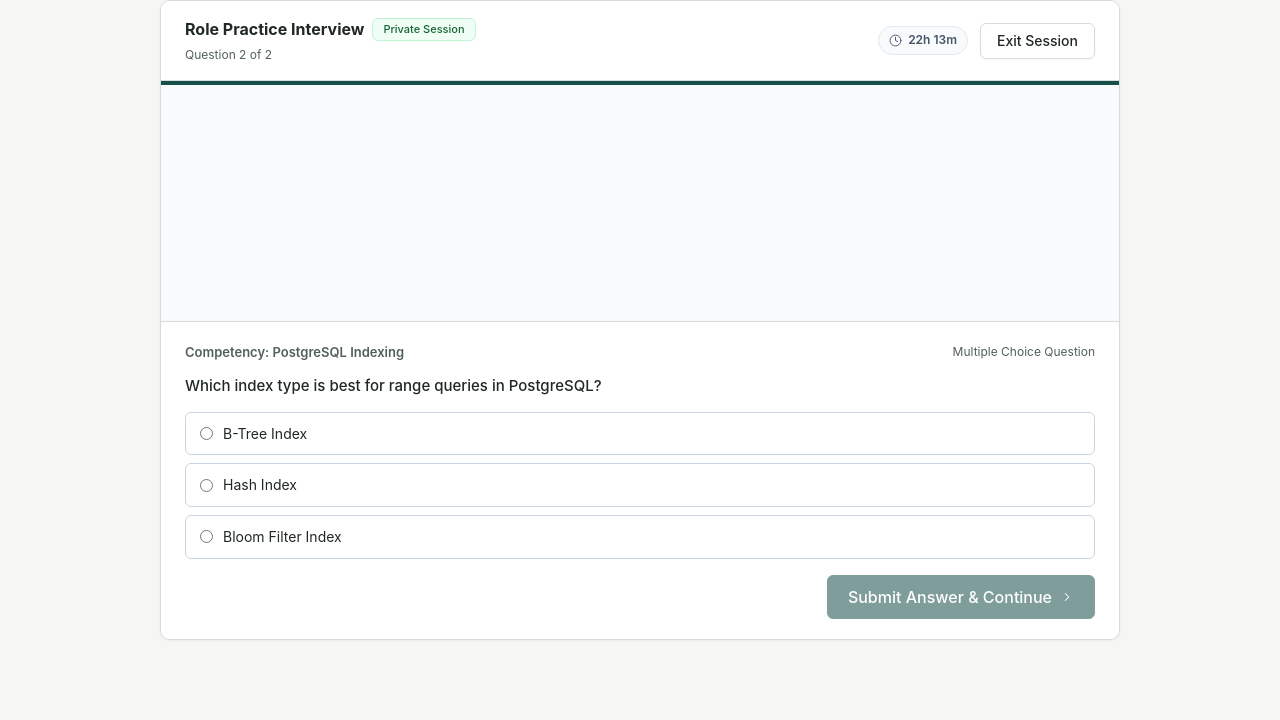
Test: Candidate Practice Engine & Room › renders MCQ question and allows option selection and submission
Expected: the text "Which index type is best for range queries in PostgreSQL?" is shown, [185,376,602,395]
Expected: the text "Hash Index" is shown, [223,474,297,496]
Note: Select Option A (B-Tree Index)
Click the text "B-Tree Index" at point(265, 433), box [223,422,307,444]
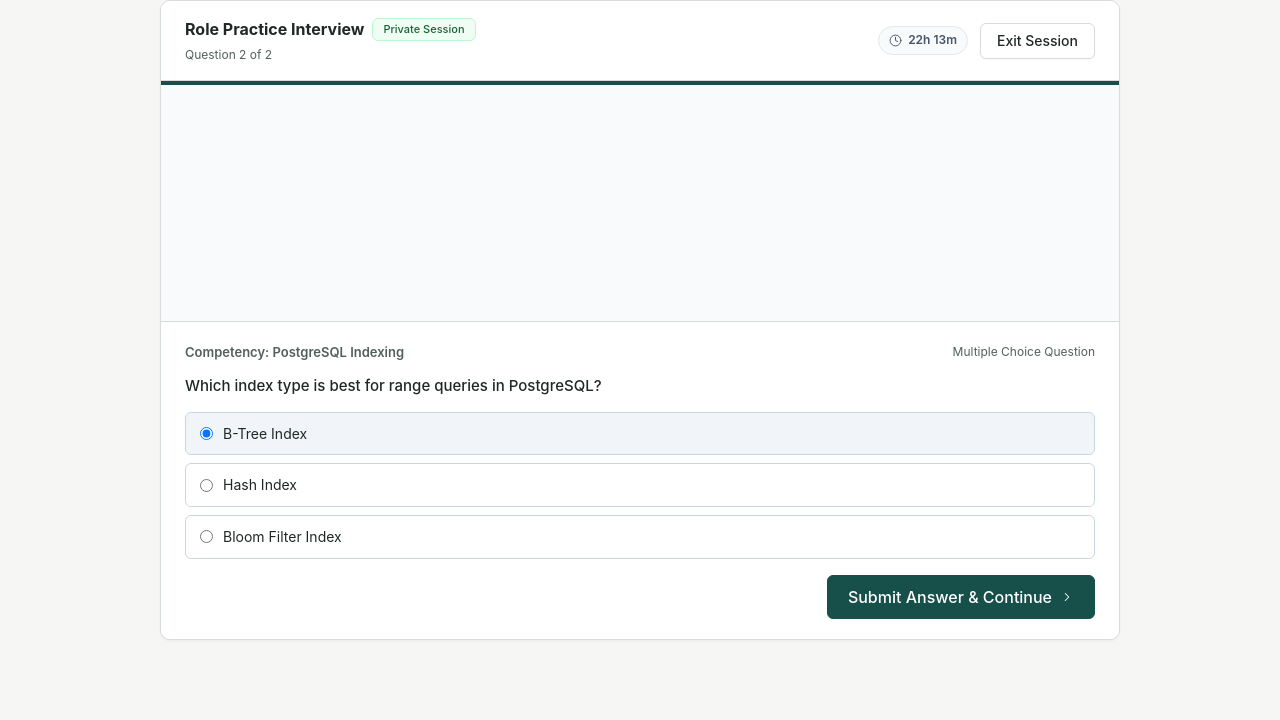
Result: the button "Submit Answer & Continue" is enabled
Click the button "Submit Answer & Continue" at point(961, 597), box [827,575,1095,619]
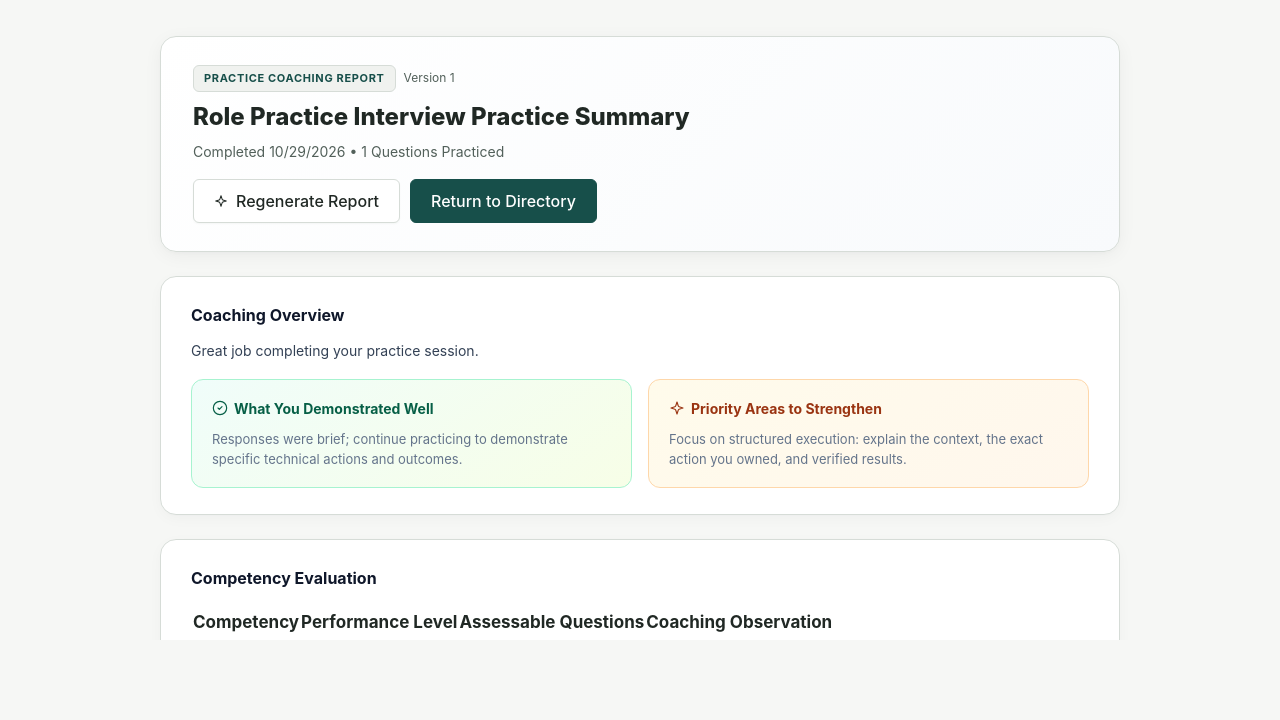
Result: the text "Practice Coaching Report" is shown at [193,65,396,92]
Result: the text "Great job completing your practice session." is shown at [191,342,479,359]
Result: the button "Return to Directory" is shown at [410,179,597,223]
